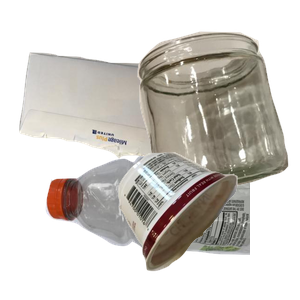glass: (135, 29, 300, 209)
paper: (17, 50, 231, 230)
plastic: (43, 152, 283, 300)
trash: (116, 149, 300, 300)
